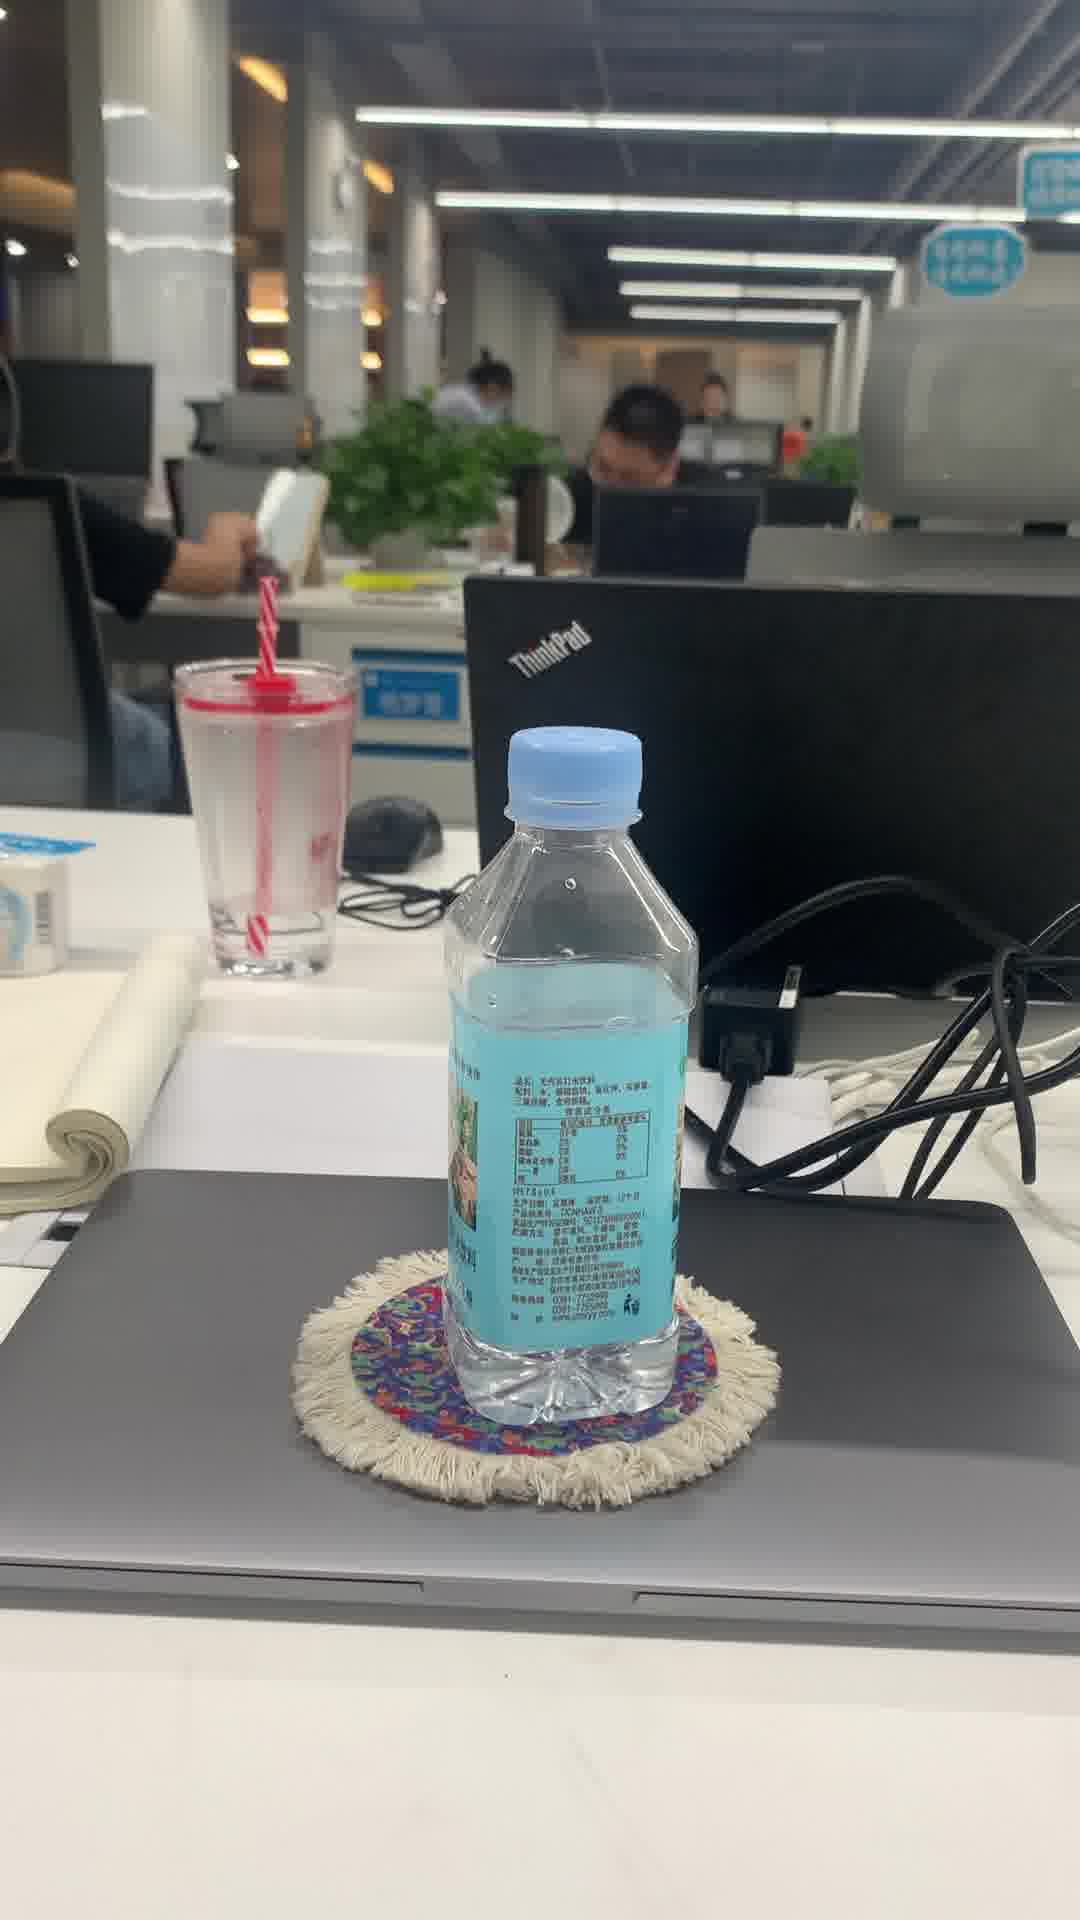水瓶: (433, 713, 699, 1435)
